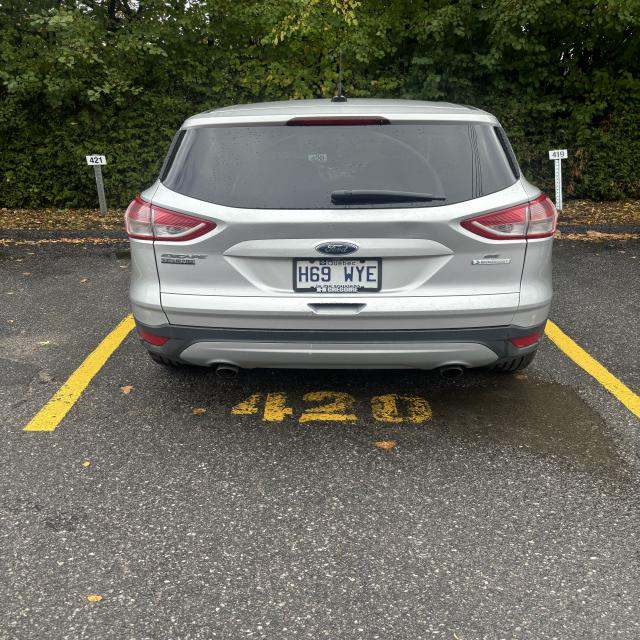plaque: (293, 259, 381, 293)
